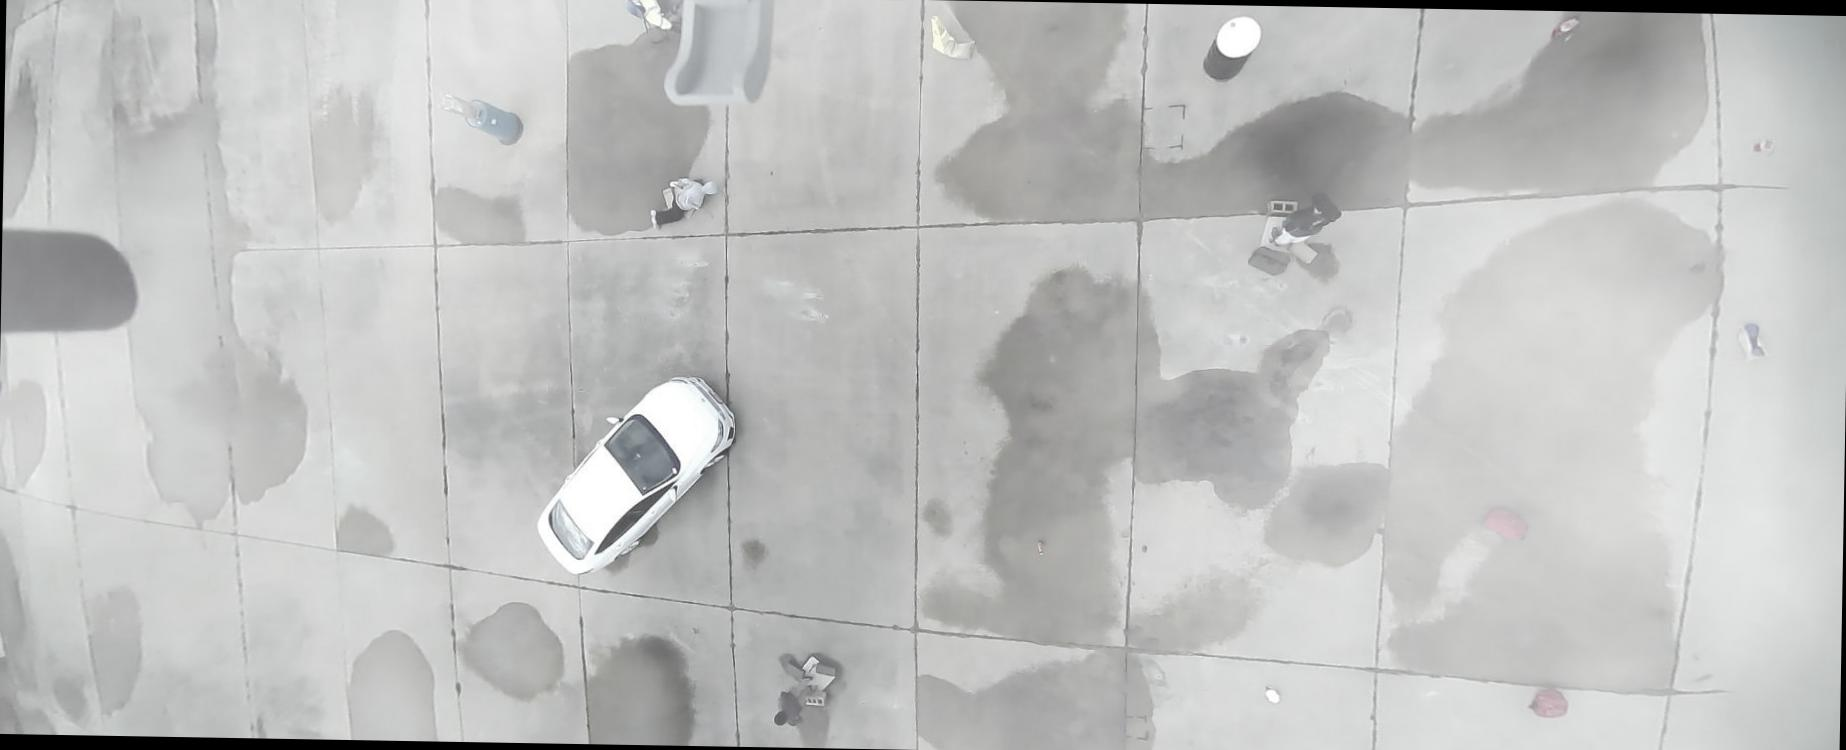vehicle: (534, 372, 739, 577)
